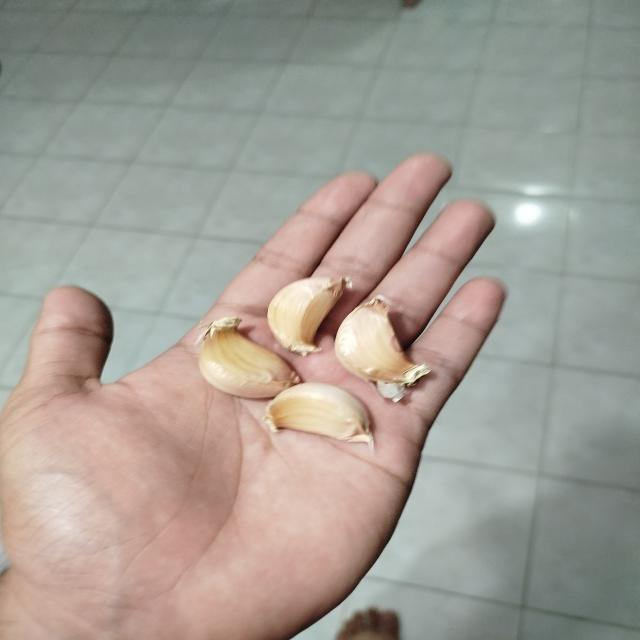garlic: (334, 294, 432, 403), (195, 316, 302, 399), (261, 382, 375, 454), (266, 275, 353, 357)
